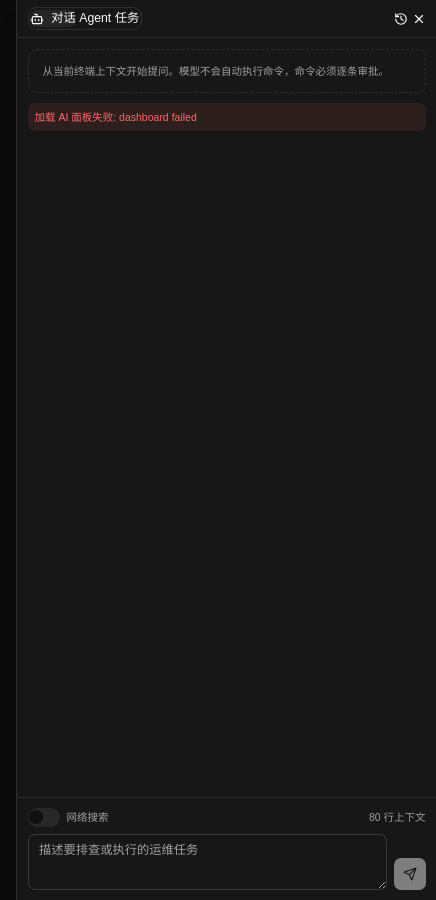
AITerminalPanel › does not pretend empty history when panel load fails
Click the button named "对话历史" at (401, 18), box [394, 12, 408, 26]
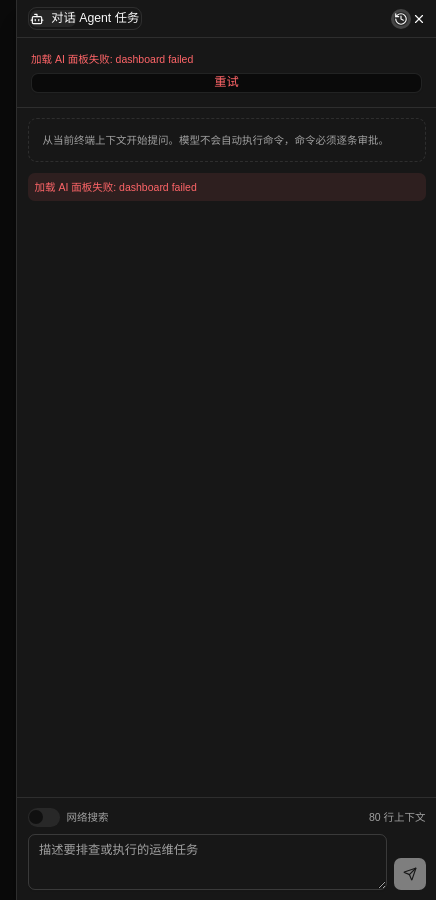
Expected: the message does not show "加载 AI 面板失败: 加载 AI 面板失败", [24, 45, 429, 100]
Expected: the message shows "加载 AI 面板失败: dashboard failed", [31, 53, 193, 65]
Expected: the button "重试" is shown, [31, 73, 422, 92]
